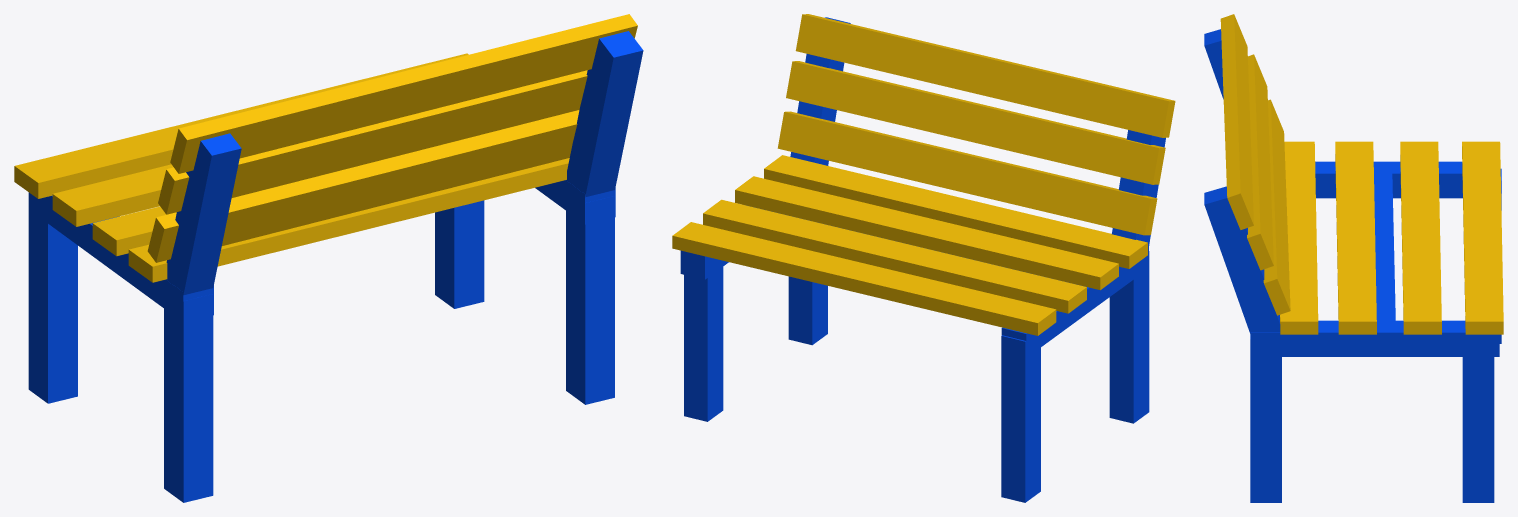
Rendered from lawka.fbx.
The picture shows the model from 3 angles, left to right: view 1: azimuth 30°, elevation 25°; view 2: azimuth 150°, elevation 25°; view 3: azimuth 270°, elevation 25°; orthographic projection. The views are drawn at different scales.
Visible parts, largest first — view 1: Box018, Box016, Box017, Box002, Box005, Box001, Box015, Box011, Box010, Box012, Box004, Box013 (+3 smaller); view 2: Box018, Box016, Box017, Box012, Box014, Box013, Box015, Box001, Box004, Box002, Box005, Box003 (+3 smaller); view 3: Box014, Box013, Box012, Box006, Box015, Box018, Box004, Box005, Box011, Box017, Box016, Box009 (+2 smaller).
Part boxes in pixels (box(x1,y1,x2,y2)): Box018: box(170, 14, 637, 173); Box016: box(147, 110, 579, 262); Box017: box(158, 70, 587, 214); Box002: box(164, 294, 213, 502); Box005: box(566, 196, 614, 404); Box001: box(28, 192, 77, 403); Box015: box(128, 158, 569, 282); Box011: box(566, 31, 643, 197); Box010: box(166, 133, 241, 318); Box012: box(14, 53, 468, 198); Box004: box(435, 200, 484, 308); Box013: box(52, 164, 173, 226); Box018: box(795, 14, 1175, 137); Box016: box(777, 111, 1157, 235); Box017: box(786, 61, 1165, 184); Box012: box(672, 222, 1056, 335); Box014: box(735, 176, 1118, 290); Box013: box(703, 199, 1086, 313); Box015: box(764, 155, 1147, 268); Box001: box(1001, 335, 1040, 502); Box004: box(684, 267, 723, 421); Box002: box(1109, 251, 1149, 423); Box005: box(788, 276, 827, 345); Box003: box(1001, 244, 1148, 357); Box014: box(1335, 141, 1376, 334); Box013: box(1400, 141, 1441, 334); Box012: box(1462, 141, 1503, 334); Box006: box(1250, 320, 1499, 356); Box015: box(1280, 141, 1318, 334); Box018: box(1220, 14, 1253, 229); Box004: box(1462, 357, 1494, 502); Box005: box(1250, 335, 1281, 502); Box011: box(1204, 186, 1280, 359); Box017: box(1247, 54, 1273, 270); Box016: box(1263, 99, 1290, 315); Box009: box(1374, 166, 1395, 325).
Size of the model in its own units: 25.86 by 20.94 by 18.16.
